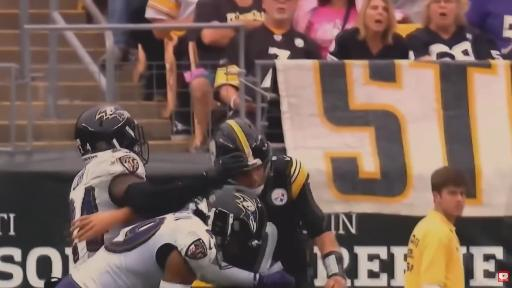Helmet: (207, 186, 266, 270), (75, 106, 148, 164), (210, 118, 271, 176)
Jersey: (71, 212, 216, 287), (259, 156, 328, 286), (70, 149, 145, 221)
Player: (211, 119, 345, 287), (57, 186, 266, 287), (70, 106, 246, 221)
